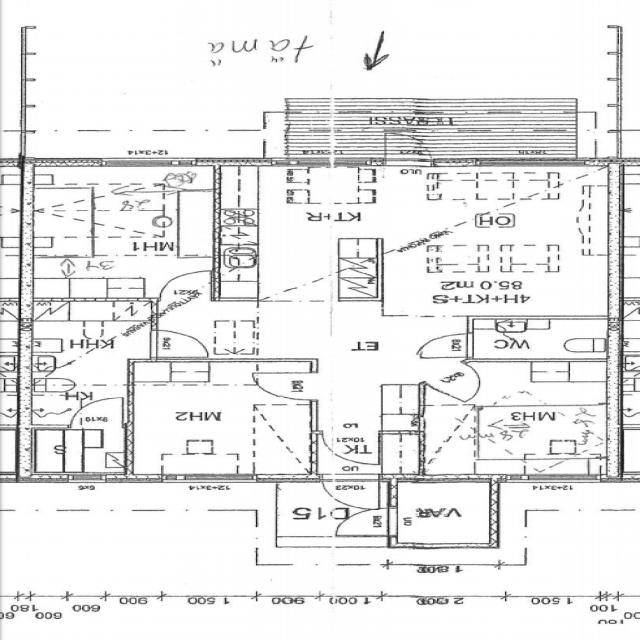door: (319, 474, 383, 508), (421, 368, 484, 402), (249, 371, 317, 402), (378, 132, 435, 168), (149, 328, 212, 360), (68, 394, 129, 427), (320, 436, 380, 468), (333, 507, 392, 537), (412, 331, 473, 359), (156, 269, 213, 295)
window: (516, 474, 600, 485), (62, 473, 110, 486), (285, 156, 335, 168), (432, 157, 478, 169)
zone: (375, 172, 615, 322), (122, 362, 314, 478), (23, 178, 213, 291), (24, 301, 154, 384), (472, 403, 612, 475), (387, 479, 496, 548), (466, 318, 612, 361), (19, 424, 127, 480), (320, 437, 380, 467)
